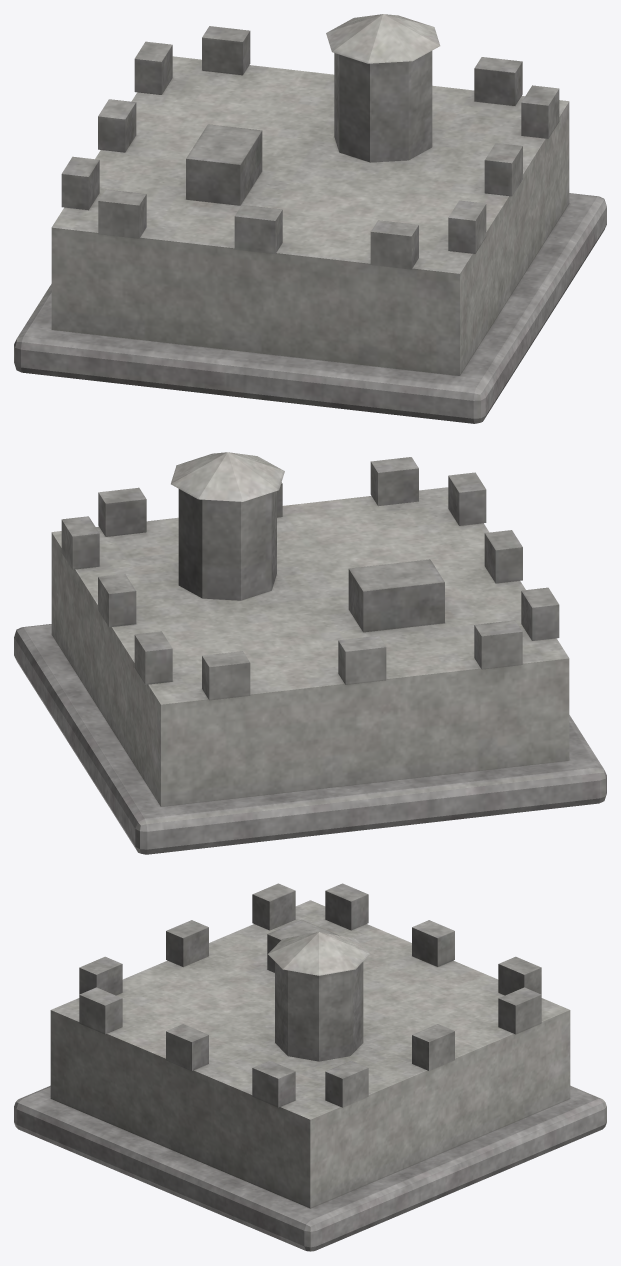
Rendered from bastion.glb.
The picture shows the model from 3 angles, top to bottom: view 1: azimuth 30°, elevation 25°; view 2: azimuth 150°, elevation 25°; view 3: azimuth 270°, elevation 25°; orthographic projection. The views are drawn at different scales.
Parts seen in each view (by area): view 1: dilek; view 2: dilek; view 3: dilek.
Part boxes in pixels (box(x1,y1,x2,y2)): dilek: box(14, 14, 606, 423); dilek: box(14, 452, 606, 854); dilek: box(14, 883, 606, 1251).
Bounding box in the file's own units: 2.42 × 1.04 × 2.42.
Materials: 1 (1 with a texture image).
